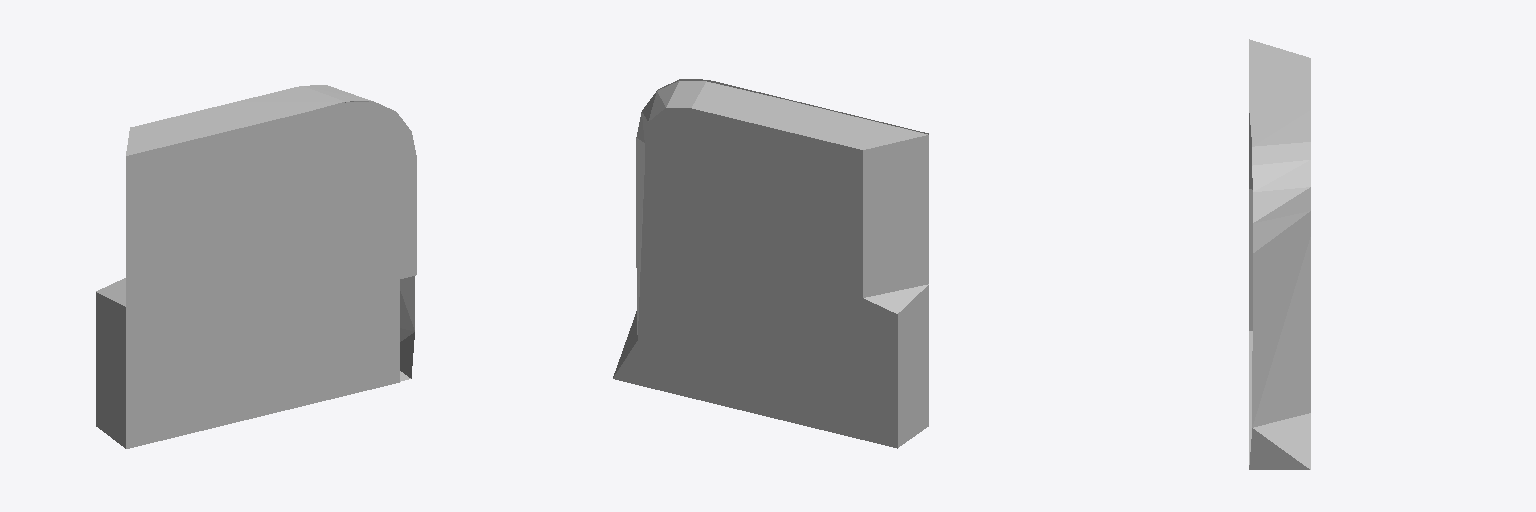
Rendered from stg110_drill_10.obj.
3 renders of one model, left to right at view 1: azimuth 30°, elevation 25°; view 2: azimuth 150°, elevation 25°; view 3: azimuth 270°, elevation 25°, orthographic.
Parts seen in each view (by area): view 1: polygon0, polygon1; view 2: polygon1; view 3: polygon1.
Boxes of the visible parts, x1=… form: polygon0: x1=126, y1=101, x2=416, y2=448; polygon1: x1=96, y1=85, x2=414, y2=448; polygon1: x1=613, y1=81, x2=928, y2=448; polygon1: x1=1249, y1=39, x2=1310, y2=469.
Bounding box in the file's own units: 207 × 199 × 38.